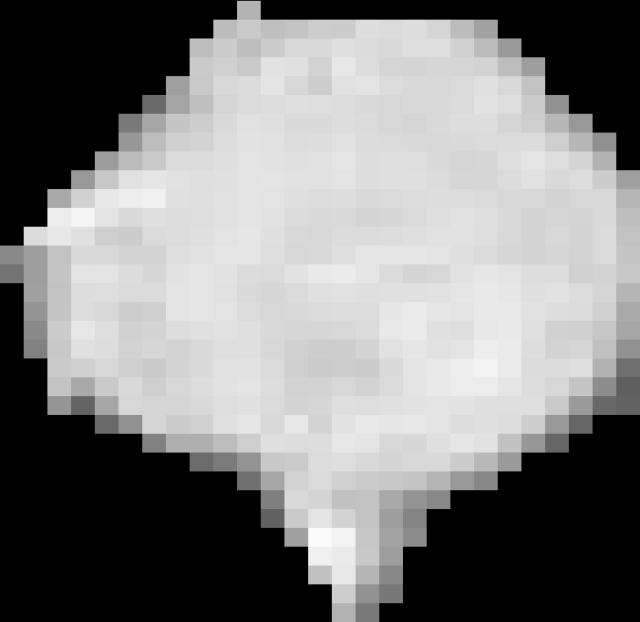tumor_good_chance: (0, 1, 640, 622)
